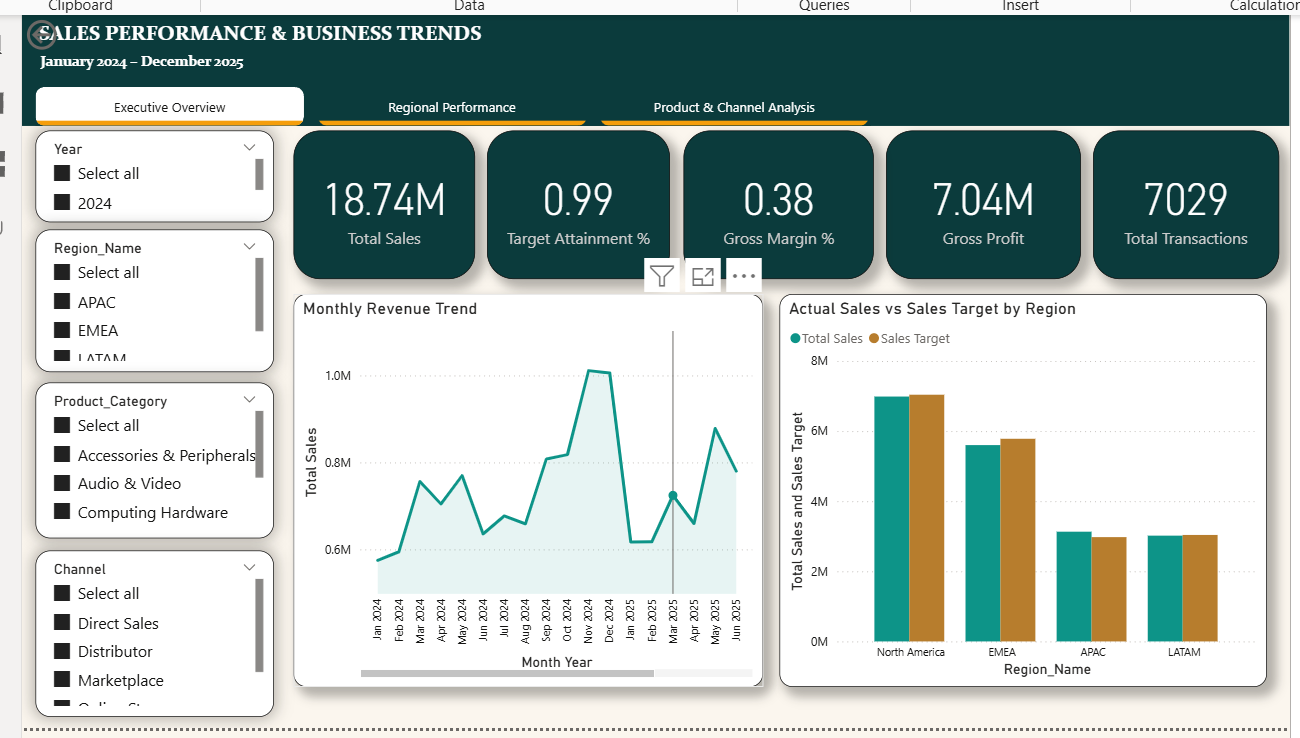

The page's visual inventory and layout, read from the dashboard file:
{"tool":"powerbi","page":{"name":"Executive Overview","canvas":[1280,720],"ordinal":0},"visuals":[{"type":"textbox","box":[0,0,1279.5,112.1],"z":0},{"type":"card","fields":{"Values":["Data_Dictionary.Total Sales"]},"box":[274.1,116.6,183.2,149.9],"z":1000},{"type":"card","fields":{"Values":["Data_Dictionary.Gross Profit"]},"box":[872.2,116.6,196.8,149.9],"z":2000},{"type":"card","fields":{"Values":["Data_Dictionary.Gross Margin %"]},"box":[667.8,116.6,192.3,149.9],"z":3000},{"type":"card","fields":{"Values":["Data_Dictionary.Target Attainment %"]},"box":[469.4,116.6,184.7,149.9],"z":4000},{"type":"card","fields":{"Values":["Data_Dictionary.Total Transactions"]},"box":[1081.1,116.6,187.8,149.9],"z":5000},{"type":"lineChart","title":"Monthly Revenue Trend","fields":{"Category":["DateTable.Month Year"],"Y":["Data_Dictionary.Total Sales"]},"box":[274.1,281.6,473.9,396.7],"z":6000},{"type":"clusteredColumnChart","title":"Actual Sales vs Sales Target by Region","fields":{"Category":["Dim_Region.Region_Name"],"Y":["Data_Dictionary.Total Sales","Data_Dictionary.Sales Target"]},"box":[764.7,281.6,492.1,396.7],"z":7000},{"type":"slicer","fields":{"Values":["DateTable.Year"]},"box":[13.6,116.6,240.8,92.4],"z":8000},{"type":"slicer","fields":{"Values":["Dim_Region.Region_Name"]},"box":[13.6,216.5,240.8,143.8],"z":9000},{"type":"slicer","fields":{"Values":["Dim_Product.Product_Category"]},"box":[13.6,371,240.8,157.5],"z":10000},{"type":"slicer","fields":{"Values":["Sales_Transactions.Channel"]},"box":[13.6,540.6,240.8,168.1],"z":11000},{"type":"pageNavigator","box":[13.6,72.7,843.4,39.4],"z":12000},{"type":"actionButton","box":[0,0,100,40],"z":13000}]}

Visuals, with their boxes in screenshot pixels (x1, y1, x2, y2):
textbox: crop(14, 10, 1295, 122)
card - Data_Dictionary.Total Sales: crop(288, 127, 472, 277)
card - Data_Dictionary.Gross Profit: crop(887, 127, 1084, 277)
card - Data_Dictionary.Gross Margin %: crop(682, 127, 875, 277)
card - Data_Dictionary.Target Attainment %: crop(484, 127, 669, 277)
card - Data_Dictionary.Total Transactions: crop(1096, 127, 1284, 277)
"Monthly Revenue Trend" lineChart: crop(288, 292, 763, 690)
"Actual Sales vs Sales Target by Region" clusteredColumnChart: crop(779, 292, 1272, 690)
slicer - DateTable.Year: crop(27, 127, 268, 219)
slicer - Dim_Region.Region_Name: crop(27, 227, 268, 371)
slicer - Dim_Product.Product_Category: crop(27, 382, 268, 539)
slicer - Sales_Transactions.Channel: crop(27, 552, 268, 720)
pageNavigator: crop(27, 83, 872, 122)
actionButton: crop(14, 10, 114, 50)
